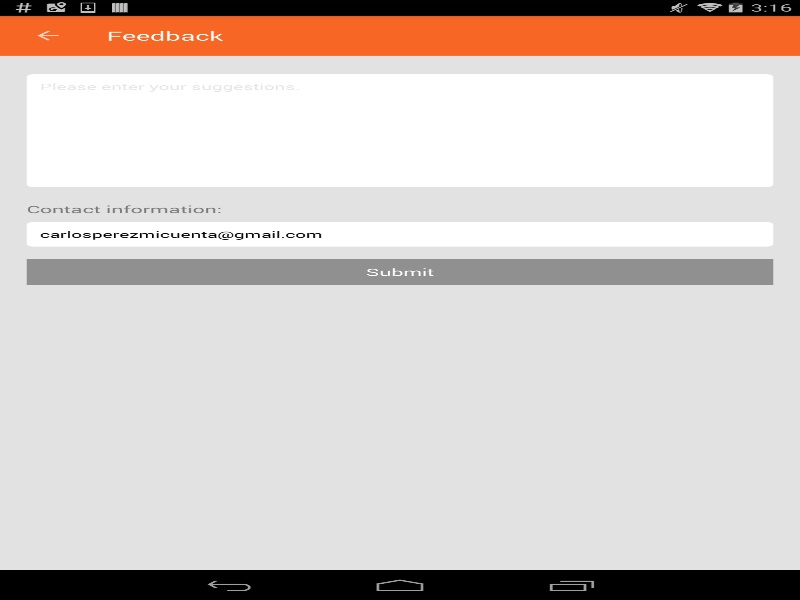Button: (10, 15, 85, 55)
Input: (26, 74, 773, 186), (26, 222, 773, 246)
